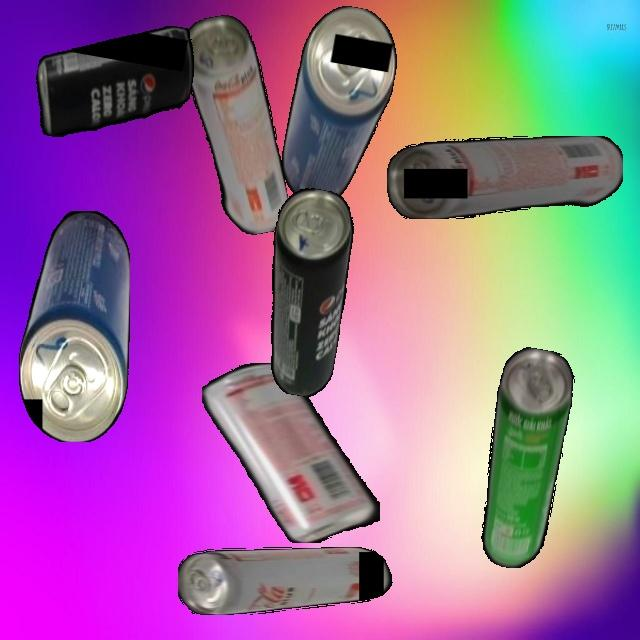debris: (202, 362, 380, 543), (275, 0, 405, 214), (27, 5, 201, 158), (178, 10, 293, 241), (18, 210, 130, 442), (468, 344, 580, 573), (248, 184, 363, 400), (387, 135, 623, 219), (178, 546, 395, 615)
